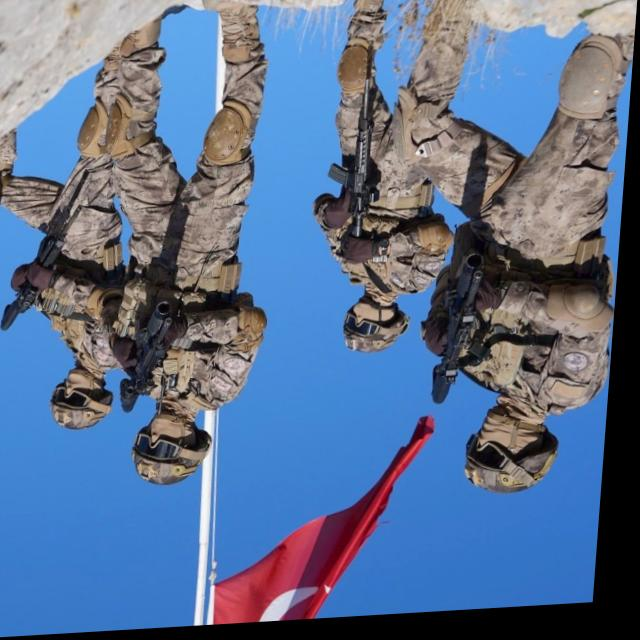poh_personel: (379, 0, 640, 508), (89, 0, 294, 491), (312, 0, 472, 361), (0, 38, 139, 439)
